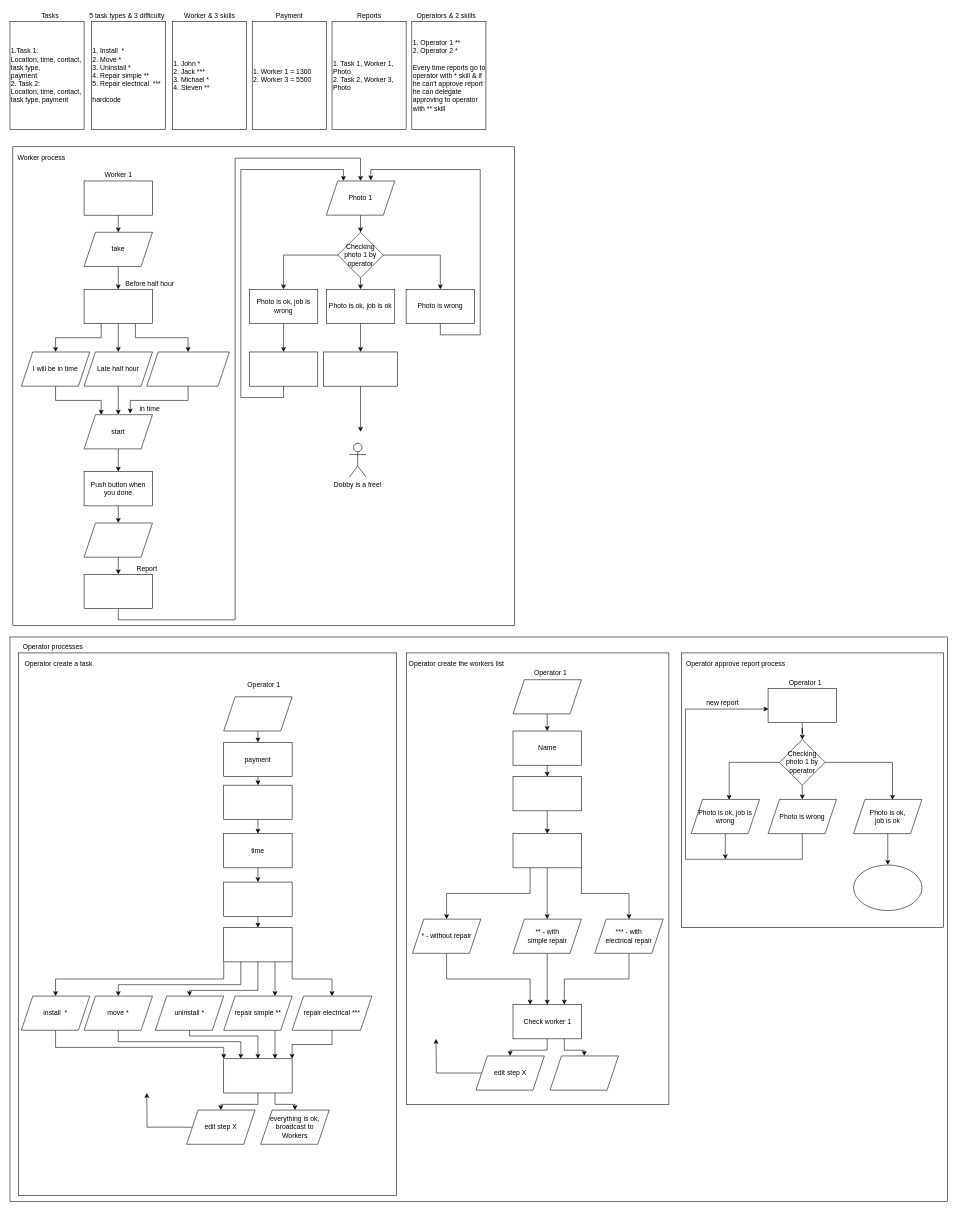
Some shapes in this 958 by 1211 pixel diagram are drawn without their labels. Here are the shapes that lost their labels. From the top down, the centre of each, then its label:
At [118,197]: "task 1".
At [118,306]: "Everything is ok?".
At [187,368]: "Late more half hour".
At [283,368]: "Do it right & make photo again".
At [360,368]: "increase payment for worker 1".
At [118,539]: "Done".
At [118,591]: "Make photo 1 like this".
At [257,713]: "Create task 1".
At [546,696]: "Enter worker".
At [802,705]: "Task 1 Photo 1".
At [257,802]: "location".
At [546,793]: "Telephone".
At [546,850]: "skill".
At [257,899]: "contact".
At [887,887]: "make payment to worker of task 1".
At [257,944]: "task type".
At [257,1075]: "Check task 1".
At [583,1072]: "everything is ok, save".
